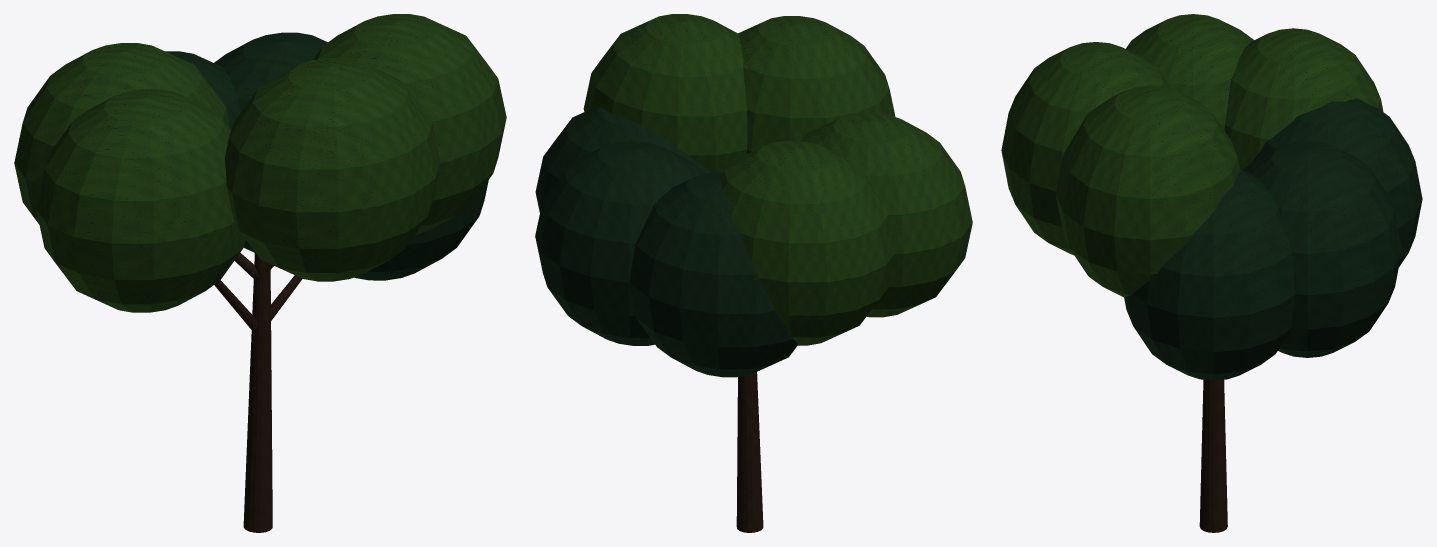
Rendered from PROP-96EAA477DA82_lod0.glb.
3 views of the same model, side by side, from view 1: azimuth 30°, elevation 25°; view 2: azimuth 150°, elevation 25°; view 3: azimuth 270°, elevation 25° (orthographic). The views are drawn at different scales.
Visible parts, largest first — view 1: leaf_crown.037, leaf_crown.036, trunk.040, branch.022; view 2: leaf_crown.037, leaf_crown.036, trunk.040; view 3: leaf_crown.037, leaf_crown.036, trunk.040.
Part boxes in pixels (bbox=[...]): leaf_crown.037: bbox=[14, 14, 506, 312]; leaf_crown.036: bbox=[165, 32, 488, 280]; trunk.040: bbox=[243, 252, 272, 532]; branch.022: bbox=[214, 252, 302, 332]; leaf_crown.037: bbox=[583, 14, 972, 345]; leaf_crown.036: bbox=[535, 107, 798, 377]; trunk.040: bbox=[736, 372, 763, 532]; leaf_crown.037: bbox=[1001, 14, 1383, 297]; leaf_crown.036: bbox=[1124, 98, 1422, 380]; trunk.040: bbox=[1199, 379, 1227, 532].
Size of the model in its own units: 8.35 by 9.03 by 7.18.
3 materials, 3 textured.
